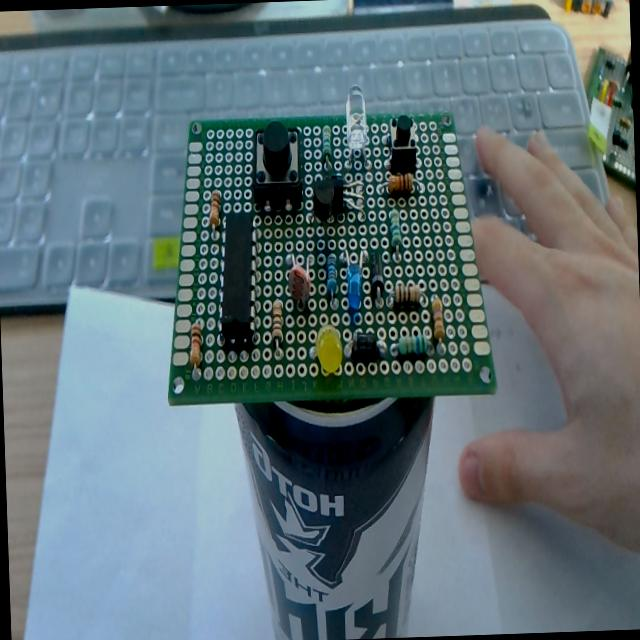IC: (217, 214, 257, 346)
cds: (286, 253, 312, 310)
diode: (348, 331, 384, 364), (370, 250, 384, 302)
led: (252, 122, 302, 210), (339, 83, 371, 166), (308, 322, 352, 374), (345, 253, 363, 312)
resistor: (396, 330, 427, 358), (188, 322, 203, 368), (394, 280, 420, 306), (270, 300, 284, 341), (387, 172, 413, 194), (325, 252, 338, 296), (431, 297, 444, 340), (388, 203, 400, 246), (208, 189, 221, 227), (322, 123, 332, 165)
switch: (386, 114, 418, 176)
transistor: (326, 177, 366, 214), (312, 177, 336, 222)
